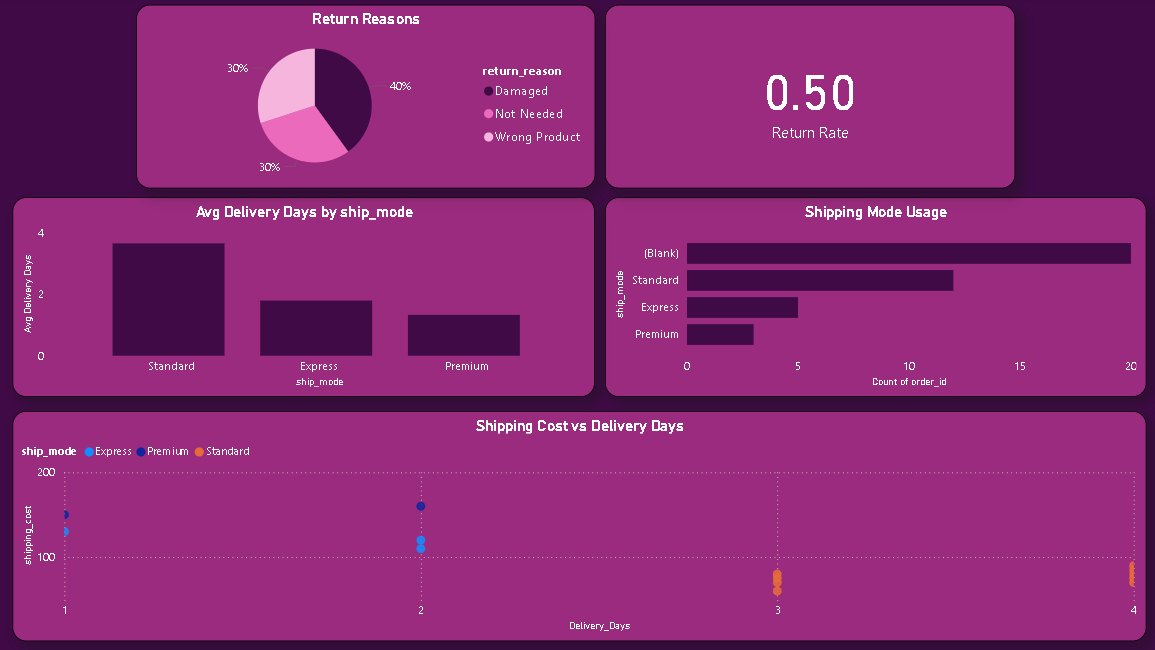

The dashboard page shown, as its layout file describes it:
{"tool":"powerbi","page":{"name":"Operations","canvas":[1280,720],"ordinal":2},"visuals":[{"type":"columnChart","fields":{"Category":["shipping.ship_mode"],"Y":["DateTable.Avg Delivery Days"]},"box":[19.2,220.9,639.5,219.6],"z":0},{"type":"barChart","title":"Shipping Mode Usage","fields":{"Category":["shipping.ship_mode"],"Y":["CountNonNull(orders.order_id)"]},"box":[669.6,220.9,594.2,219.6],"z":1},{"type":"pieChart","title":"Return Reasons","fields":{"Category":["returns.return_reason"],"Y":["CountNonNull(returns.return_id)"]},"box":[155.1,9.6,503.6,201.7],"z":2},{"type":"card","fields":{"Values":["DateTable.Return Rate"]},"box":[669.6,9.6,450.1,201.7],"z":3},{"type":"scatterChart","title":"Shipping Cost vs Delivery Days","fields":{"X":["shipping.Delivery_Days"],"Y":["shipping.shipping_cost"],"Series":["shipping.ship_mode"]},"box":[19.2,455.6,1244.6,252.5],"z":4}]}

Visuals, with their boxes in screenshot pixels (x1, y1, x2, y2), scaled from the page's 1280x720 canvas onto the 1155x650 screenshot:
columnChart - shipping.ship_mode x DateTable.Avg Delivery Days: 17,199,594,398
"Shipping Mode Usage" barChart: 604,199,1140,398
"Return Reasons" pieChart: 140,9,594,191
card - DateTable.Return Rate: 604,9,1010,191
"Shipping Cost vs Delivery Days" scatterChart: 17,411,1140,639
